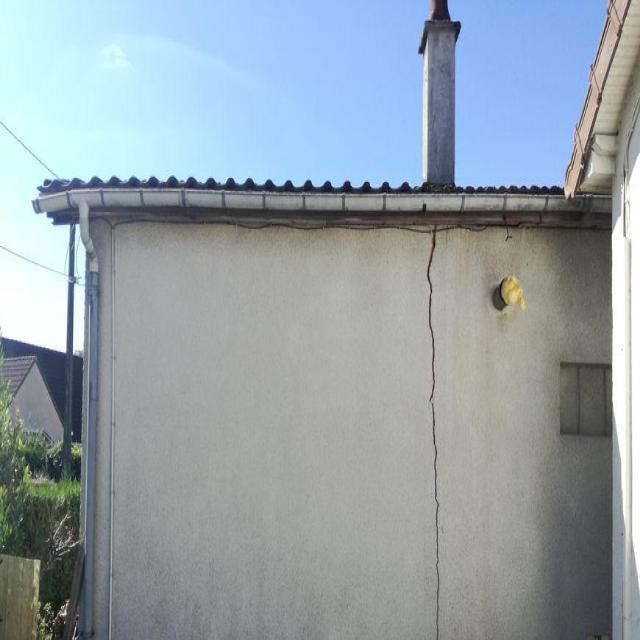crack: (424, 228, 441, 638)
